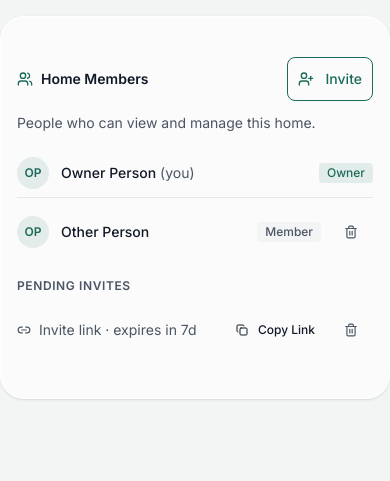
Test: HomeMembersSection · reading the list › a week-long invite reads 'expires in 7d', read with the list or just created
The width and height of the screenshot is (390, 481).
Expected: the text "Invite link · expires in 7d" is shown, [39,320,197,340]
Click the button "Invite" at (330, 79), box [286,57,373,101]
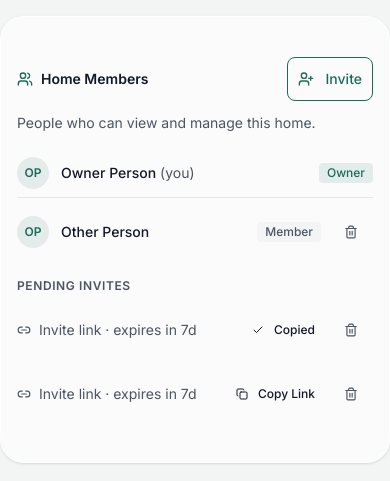
Now the text "Invite link · expires in 7d" is shown 2 times, box [39,320,197,340]; [39,384,197,404]
